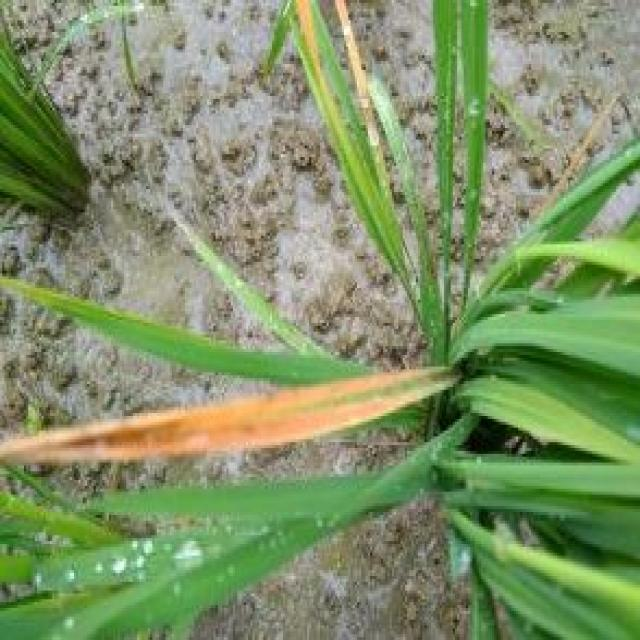Tungro: (7, 360, 450, 472), (325, 3, 409, 161)
